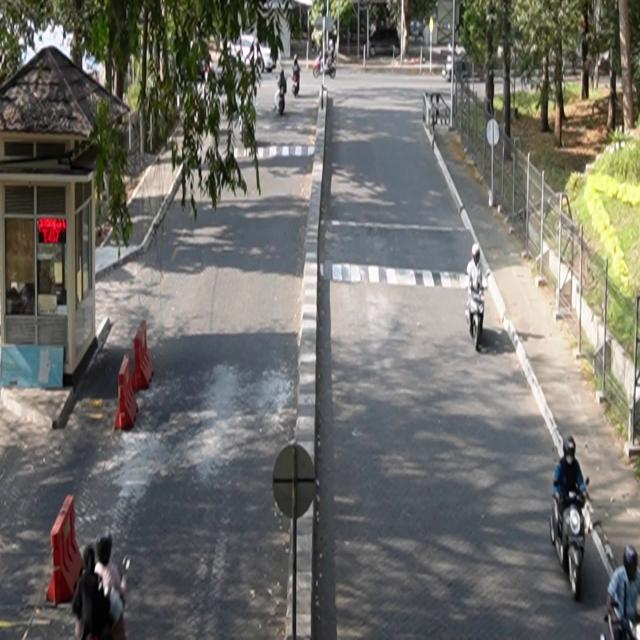car: (443, 48, 469, 83)
